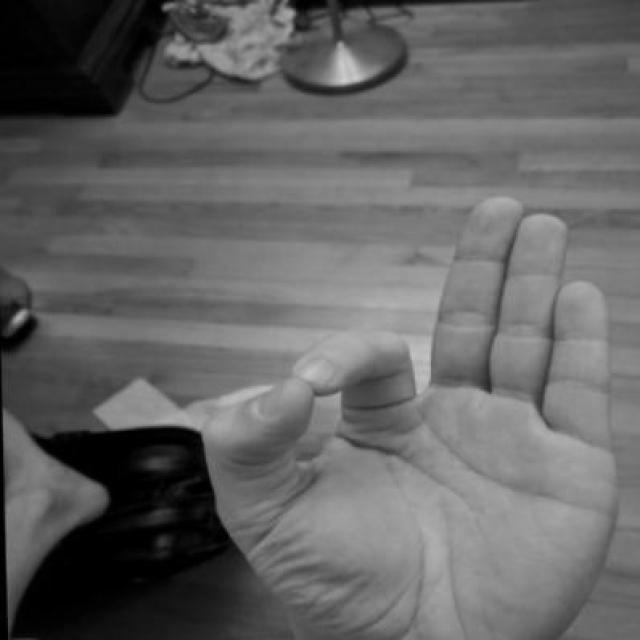F: (184, 187, 630, 639)
